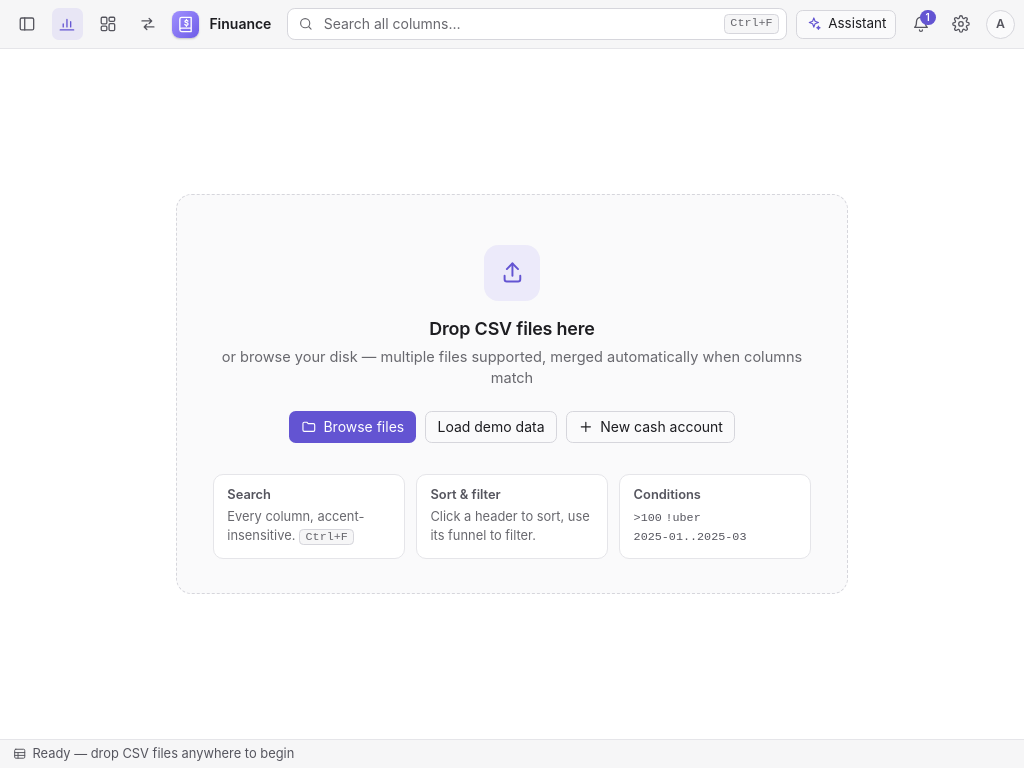
Scenario: notifications › counts unread ones in the bell, lists them and marks them read when opened
The image size is (1024, 768).
What coordinates should you click on to do the following:
click the button named "Notifications, 1 unread"
I would click on:
 (921, 24)
Its box is [905,8,937,40].
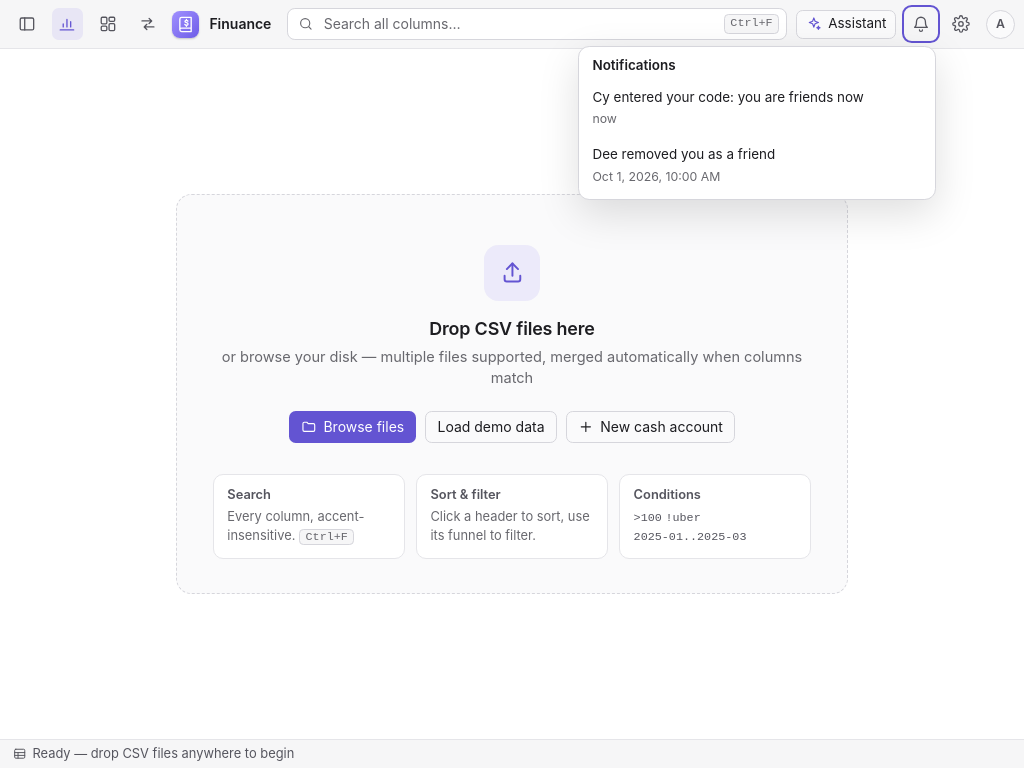
expect the text "Cy entered your code: you are friends now" is shown: met, box [592,88,864,107]
expect the text "Dee removed you as a friend" is shown: met, box [592,145,775,164]
